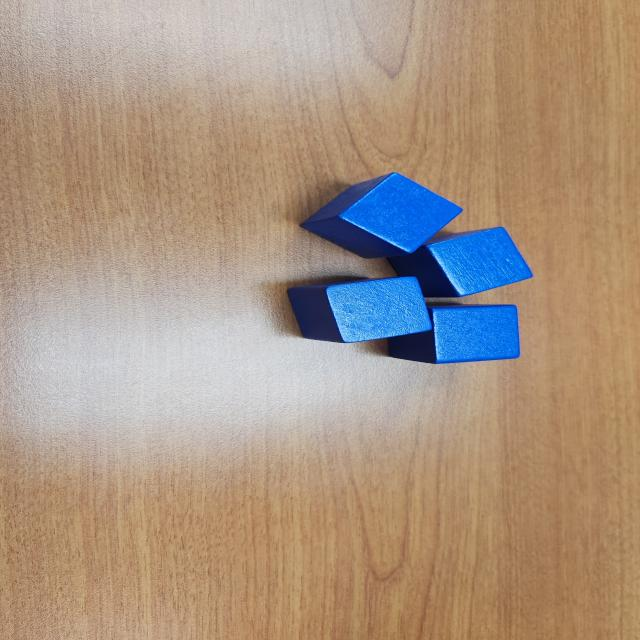blue: (299, 173, 465, 260), (385, 226, 533, 299), (286, 276, 439, 346), (388, 304, 522, 366)
